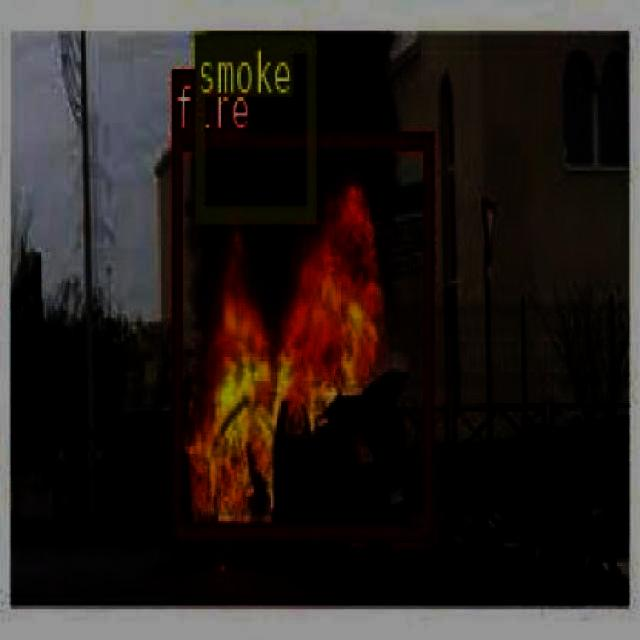fire: (170, 131, 432, 537)
smoke: (195, 30, 314, 222)
